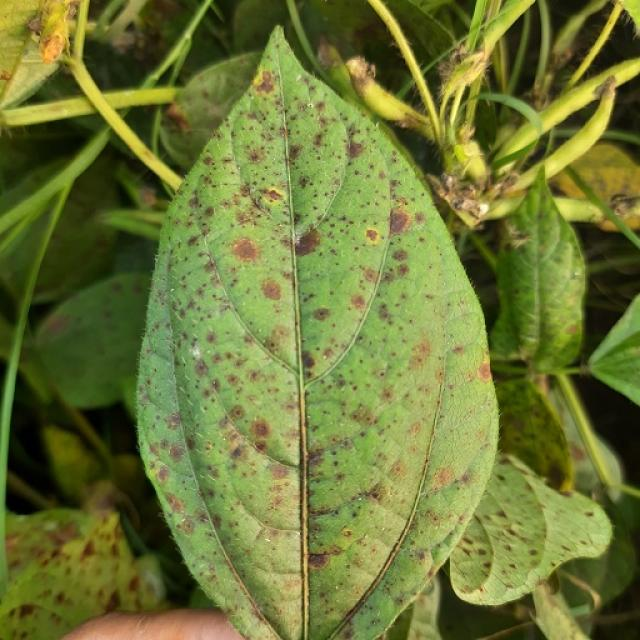Anthracnose: (318, 531, 419, 637), (209, 530, 283, 636), (447, 500, 511, 600), (115, 6, 175, 69), (434, 42, 484, 112), (302, 395, 358, 457), (352, 19, 392, 53), (289, 224, 328, 258), (344, 53, 380, 89), (162, 102, 191, 134), (316, 40, 343, 71), (40, 32, 66, 63), (592, 73, 618, 101), (596, 215, 633, 233), (452, 194, 482, 216), (232, 238, 259, 262), (388, 207, 411, 235), (42, 313, 70, 336), (254, 69, 276, 94), (137, 183, 159, 207), (498, 172, 521, 194), (508, 230, 533, 249), (261, 280, 282, 301), (452, 142, 471, 165), (616, 7, 635, 30), (13, 604, 37, 620), (307, 552, 328, 569), (252, 420, 270, 439), (26, 15, 43, 35), (104, 591, 120, 612), (569, 442, 586, 461), (477, 361, 492, 381), (348, 140, 364, 158), (312, 306, 331, 321), (391, 247, 408, 263), (230, 443, 246, 460), (301, 351, 316, 369), (194, 359, 209, 377), (264, 187, 283, 201), (82, 540, 96, 557), (351, 294, 366, 309), (610, 193, 630, 204), (365, 228, 379, 243), (565, 324, 579, 336), (451, 345, 465, 355), (0, 70, 12, 81), (342, 529, 352, 538), (585, 510, 595, 517), (307, 102, 314, 108)
Blackgram: (134, 29, 501, 639)
